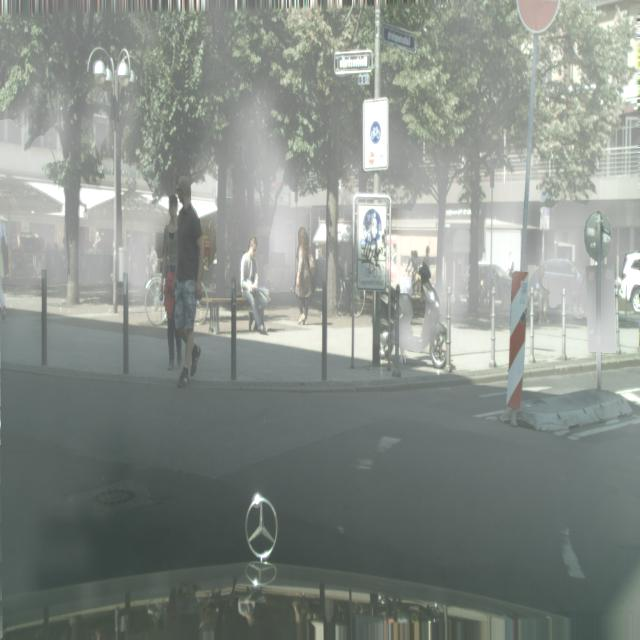bus: (380, 256, 448, 371)
car: (144, 265, 167, 326)
person: (172, 176, 203, 390), (161, 191, 179, 366), (240, 236, 270, 334), (295, 226, 315, 329), (0, 217, 9, 320), (507, 249, 514, 276)
truck: (527, 258, 586, 316), (458, 262, 512, 305), (615, 251, 640, 314)
